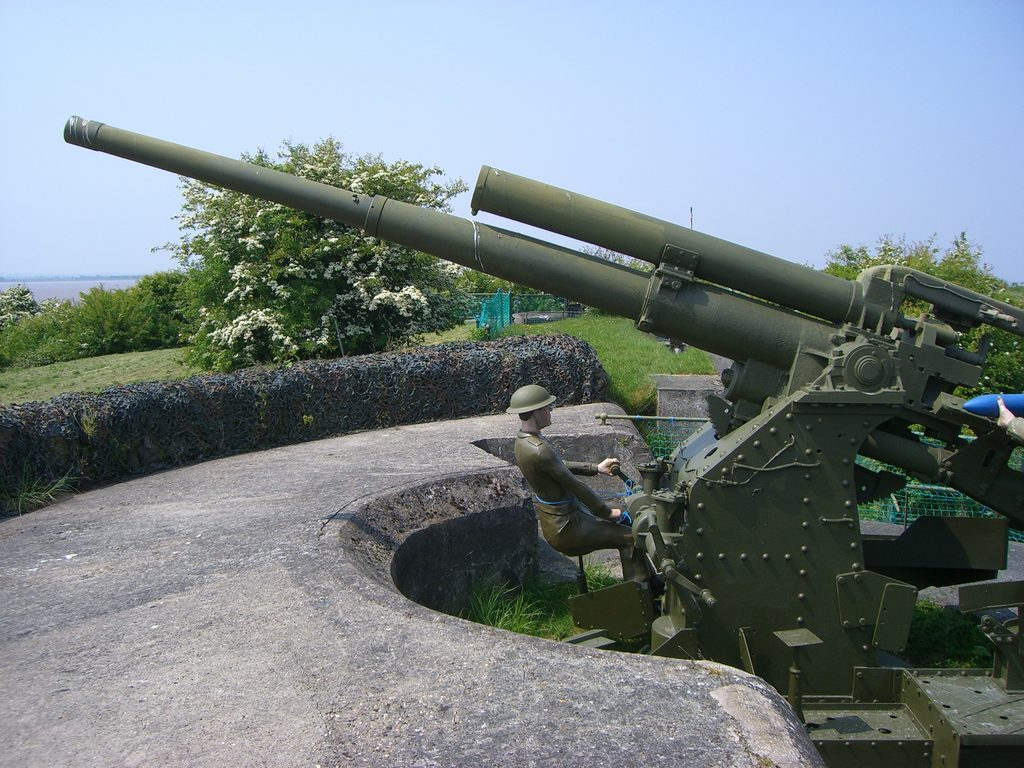Person: (505, 384, 652, 582)
